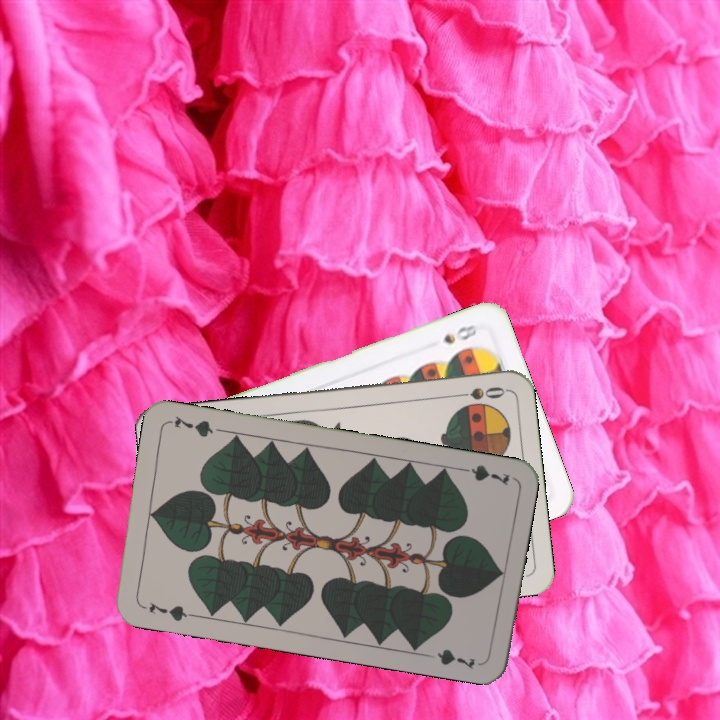G7: (454, 460, 512, 488), (145, 599, 196, 624)
S8: (439, 320, 481, 347)
SO: (449, 382, 508, 403)
